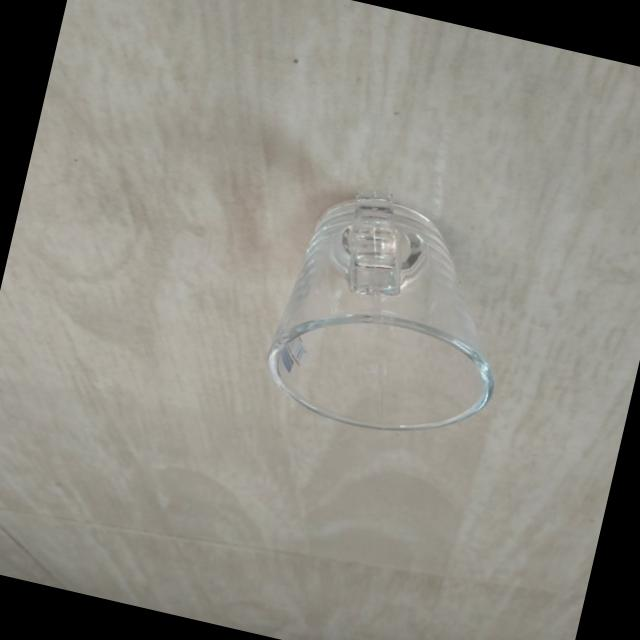glass-VX4N: (256, 170, 530, 454)
